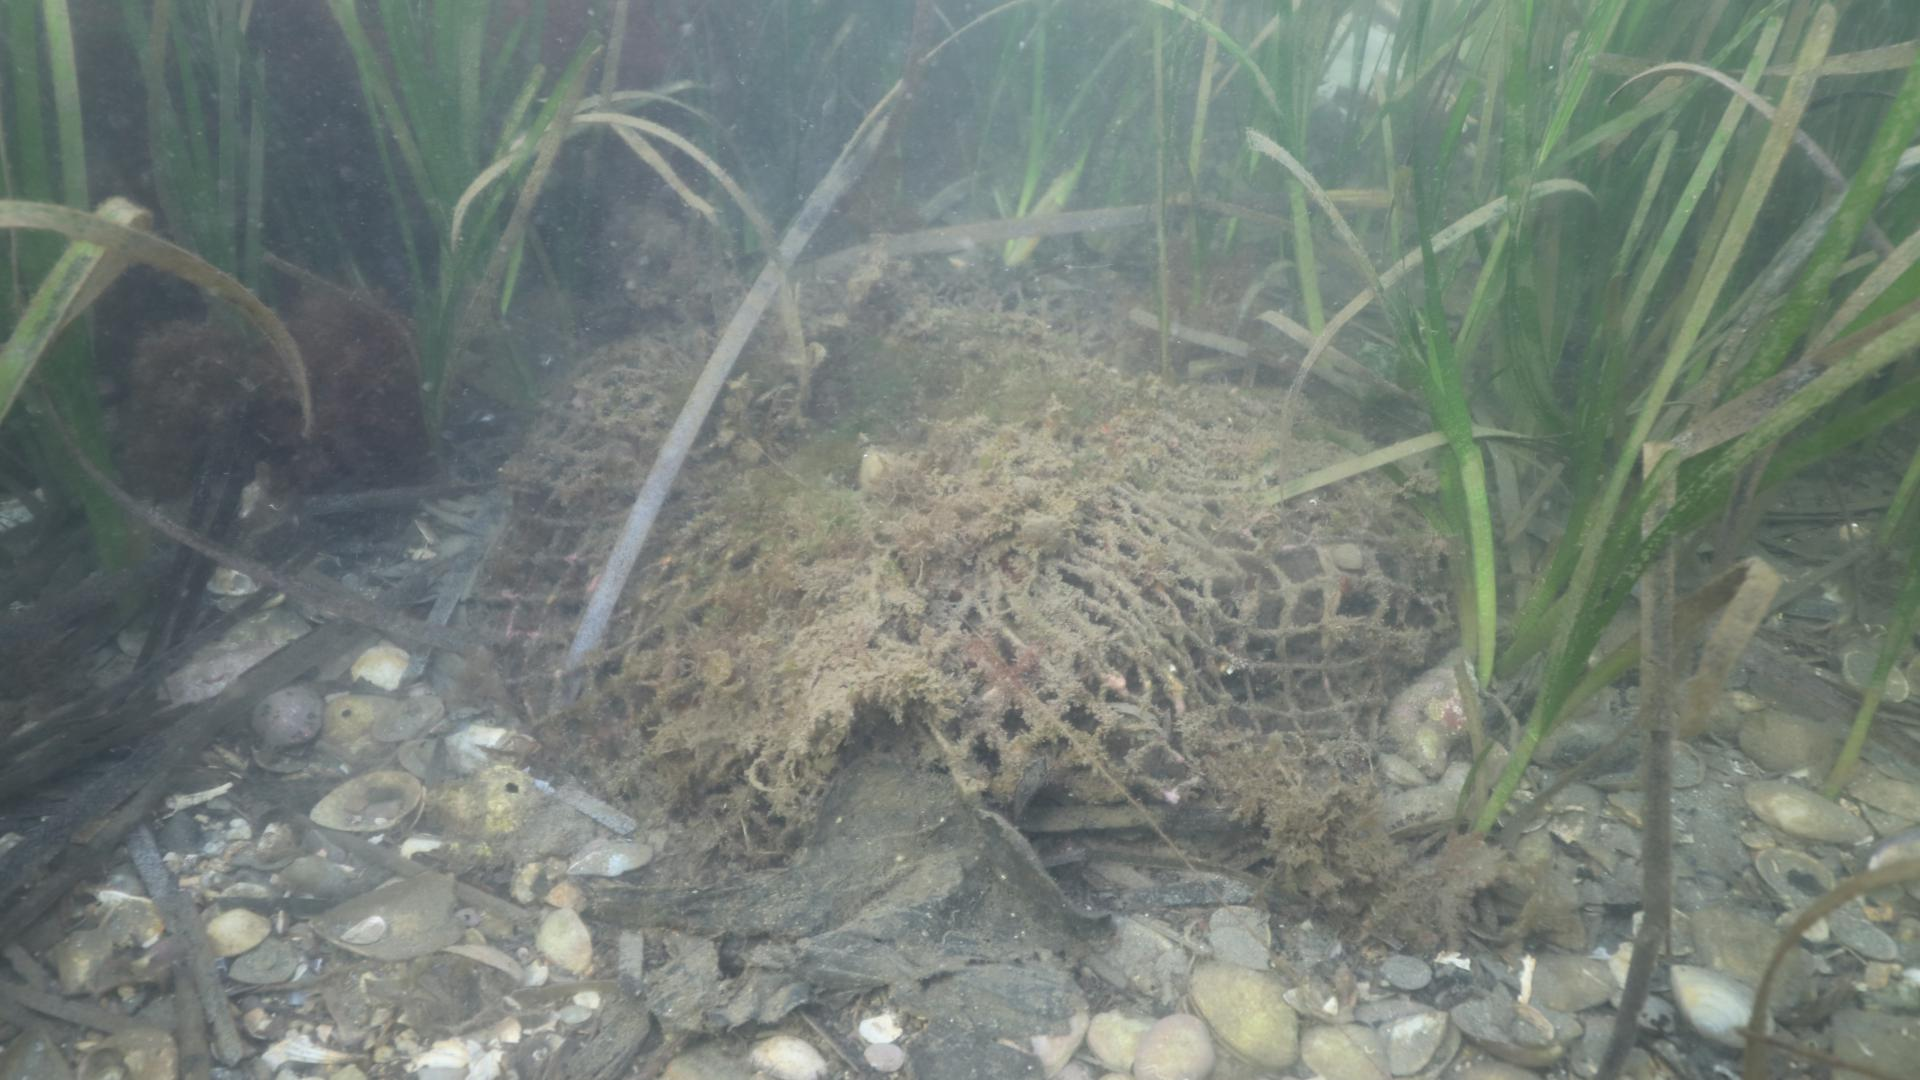fish net: (483, 280, 1455, 785)
